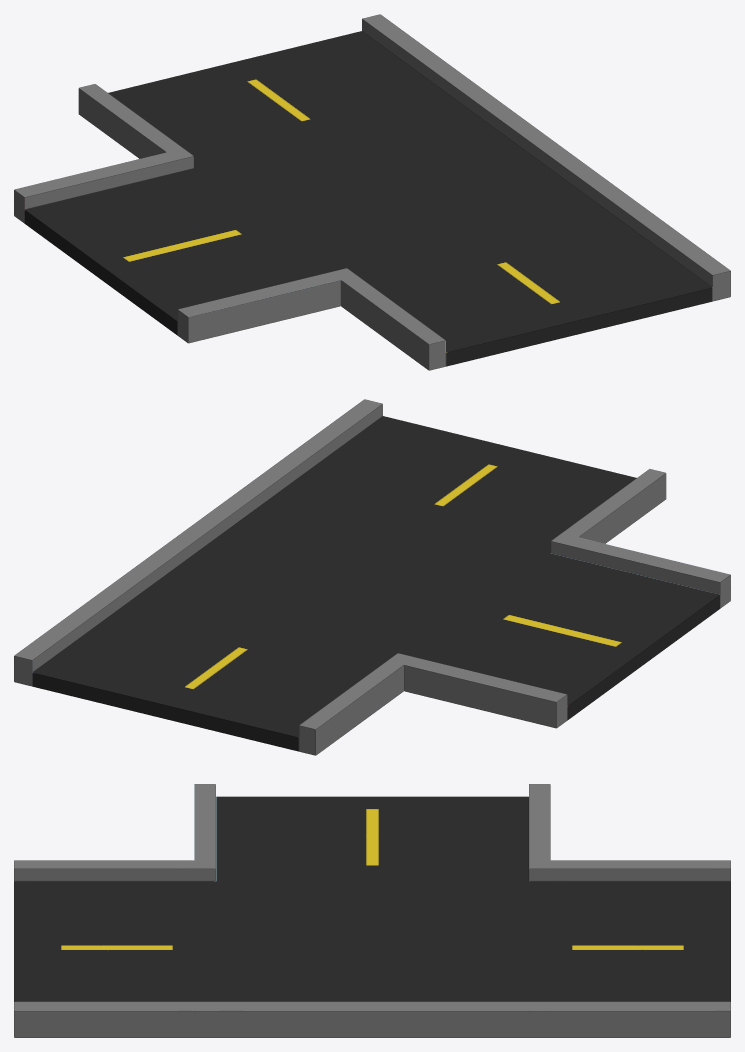
The model's file is road_t.obj.
3 renders of one model, top to bottom at view 1: azimuth 30°, elevation 25°; view 2: azimuth 150°, elevation 25°; view 3: azimuth 270°, elevation 25°, orthographic. The views are drawn at different scales.
Visible parts, largest first — view 1: cuboid; view 2: cuboid; view 3: cuboid.
Boxes of the visible parts, x1,y1,x2,y2 form: cuboid: (14, 14, 730, 370); cuboid: (14, 399, 730, 755); cuboid: (14, 784, 730, 1037).
Bounding box in the file's own units: 16.94 × 0.9375 × 22.62.
Materials: 1 (1 with a texture image).
